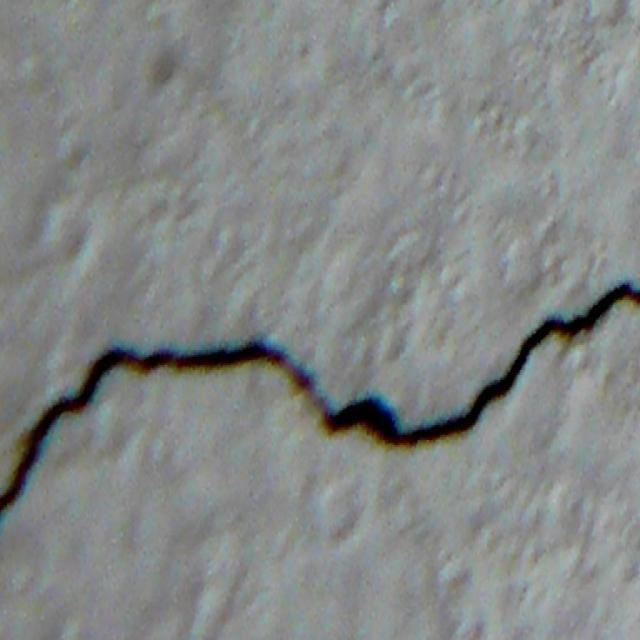Transverse: (0, 288, 640, 508)
